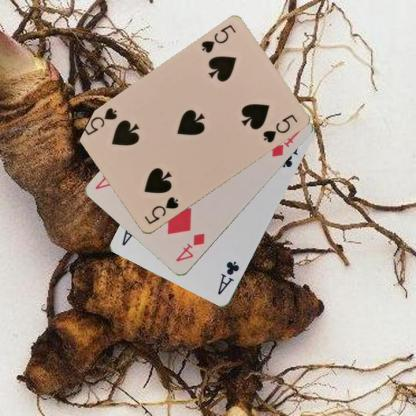4d: (174, 230, 206, 264)
5s: (142, 194, 180, 227), (198, 22, 236, 55)
Ac: (215, 258, 241, 296)
